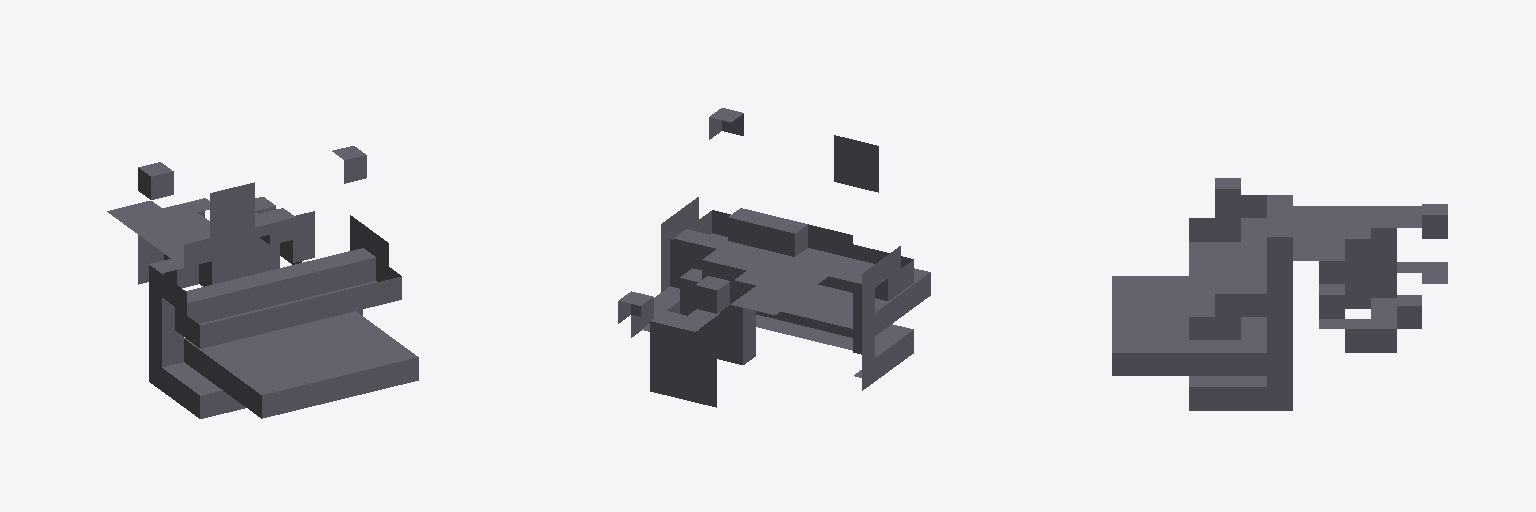
3 views of the same model, side by side, from view 1: azimuth 30°, elevation 25°; view 2: azimuth 150°, elevation 25°; view 3: azimuth 270°, elevation 25° (orthographic).
Size of the model in its own units: 9 by 11 by 13.
Materials: 1 (1 with a texture image).